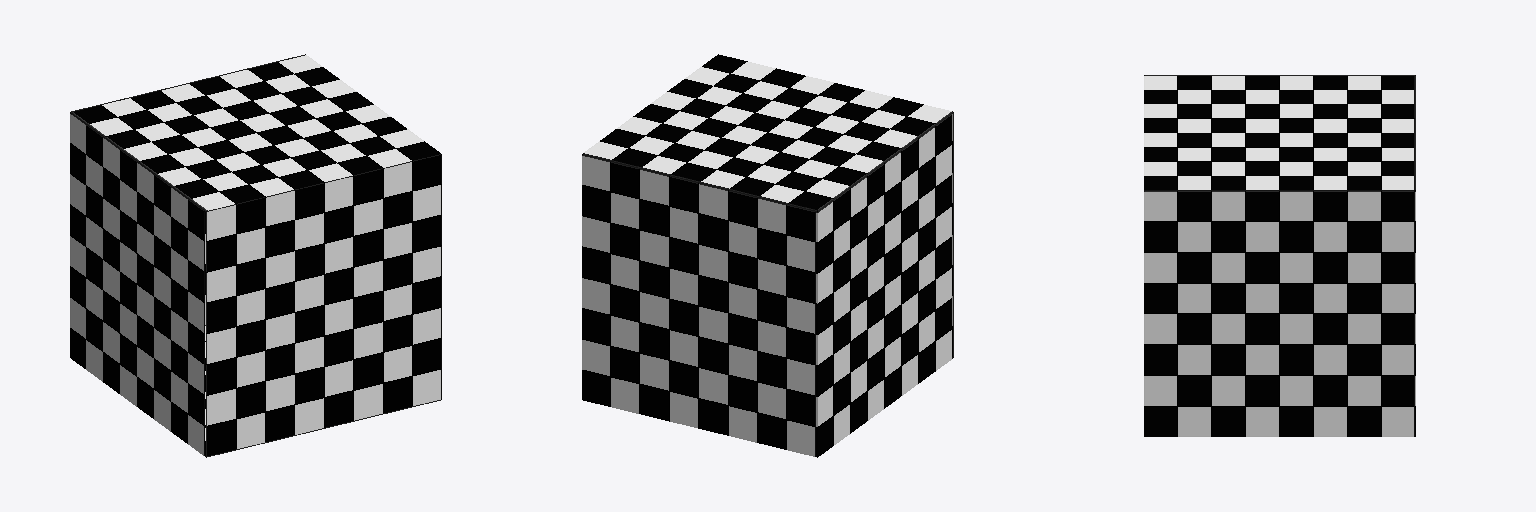
The picture shows the model from 3 angles: view 1: azimuth 30°, elevation 25°; view 2: azimuth 150°, elevation 25°; view 3: azimuth 270°, elevation 25°; orthographic projection.
Visible parts, largest first — view 1: goal; view 2: goal; view 3: goal.
Boxes of the visible parts, <box> form: goal: <box>70,54,441,457</box>; goal: <box>582,54,953,457</box>; goal: <box>1144,75,1415,436</box>.
Size of the model in its own units: 2 by 2 by 2.
Materials: 1 (1 with a texture image).